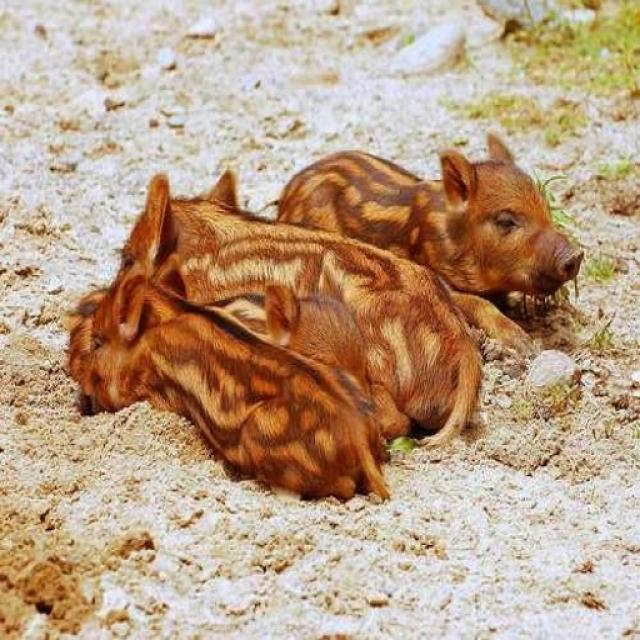pig: (303, 93, 607, 312)
